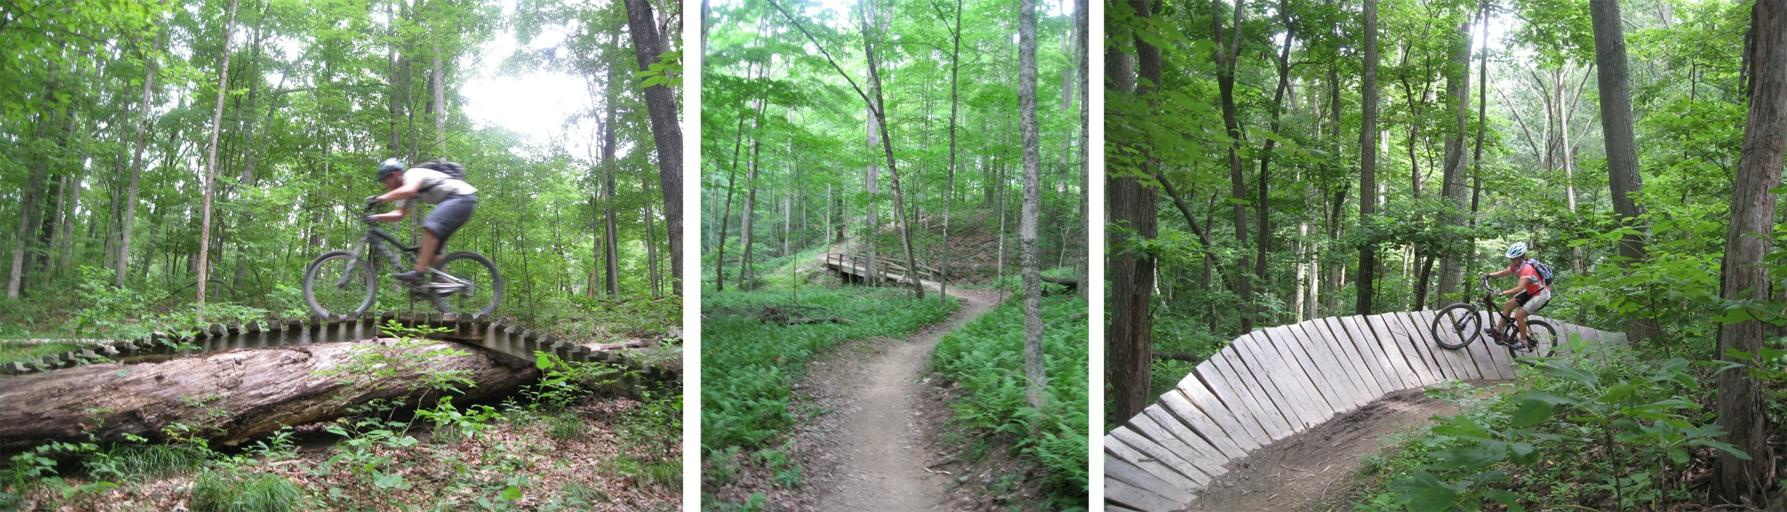non-vehicle: (302, 194, 503, 322), (1430, 273, 1558, 367)
